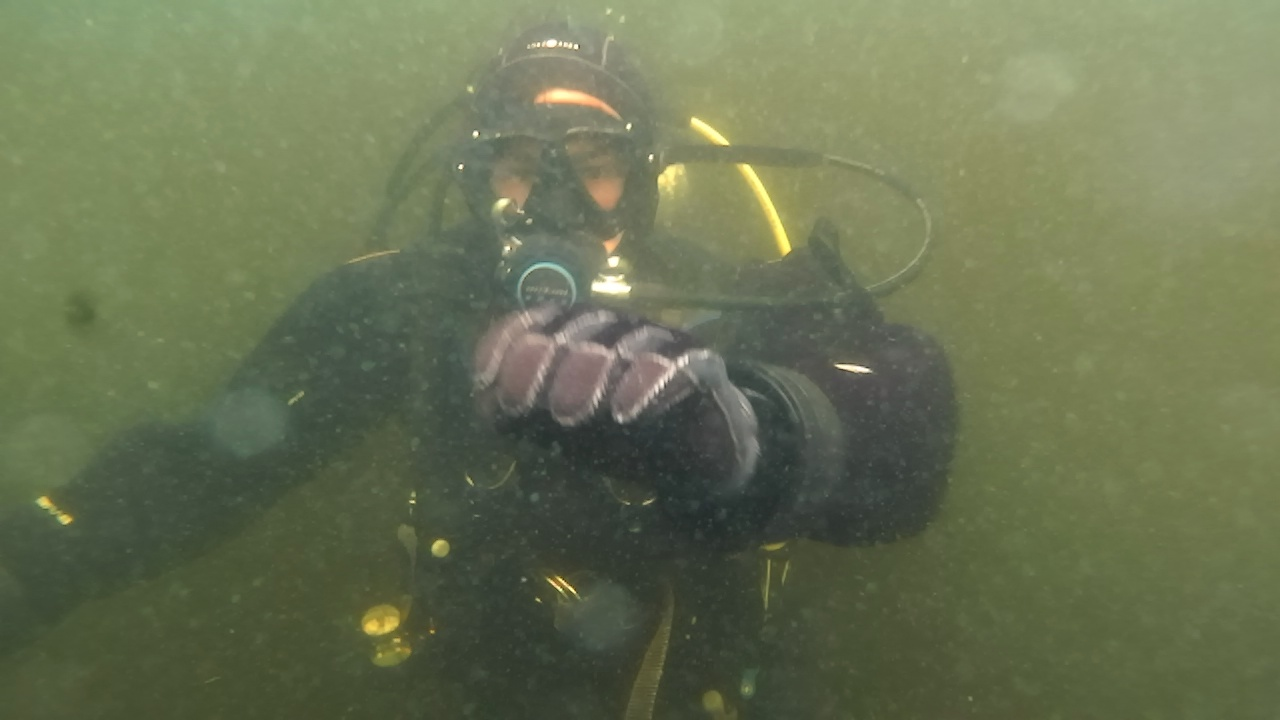Diver: (10, 20, 970, 716)
Hand: (458, 284, 766, 510)
Head: (442, 34, 676, 318)
